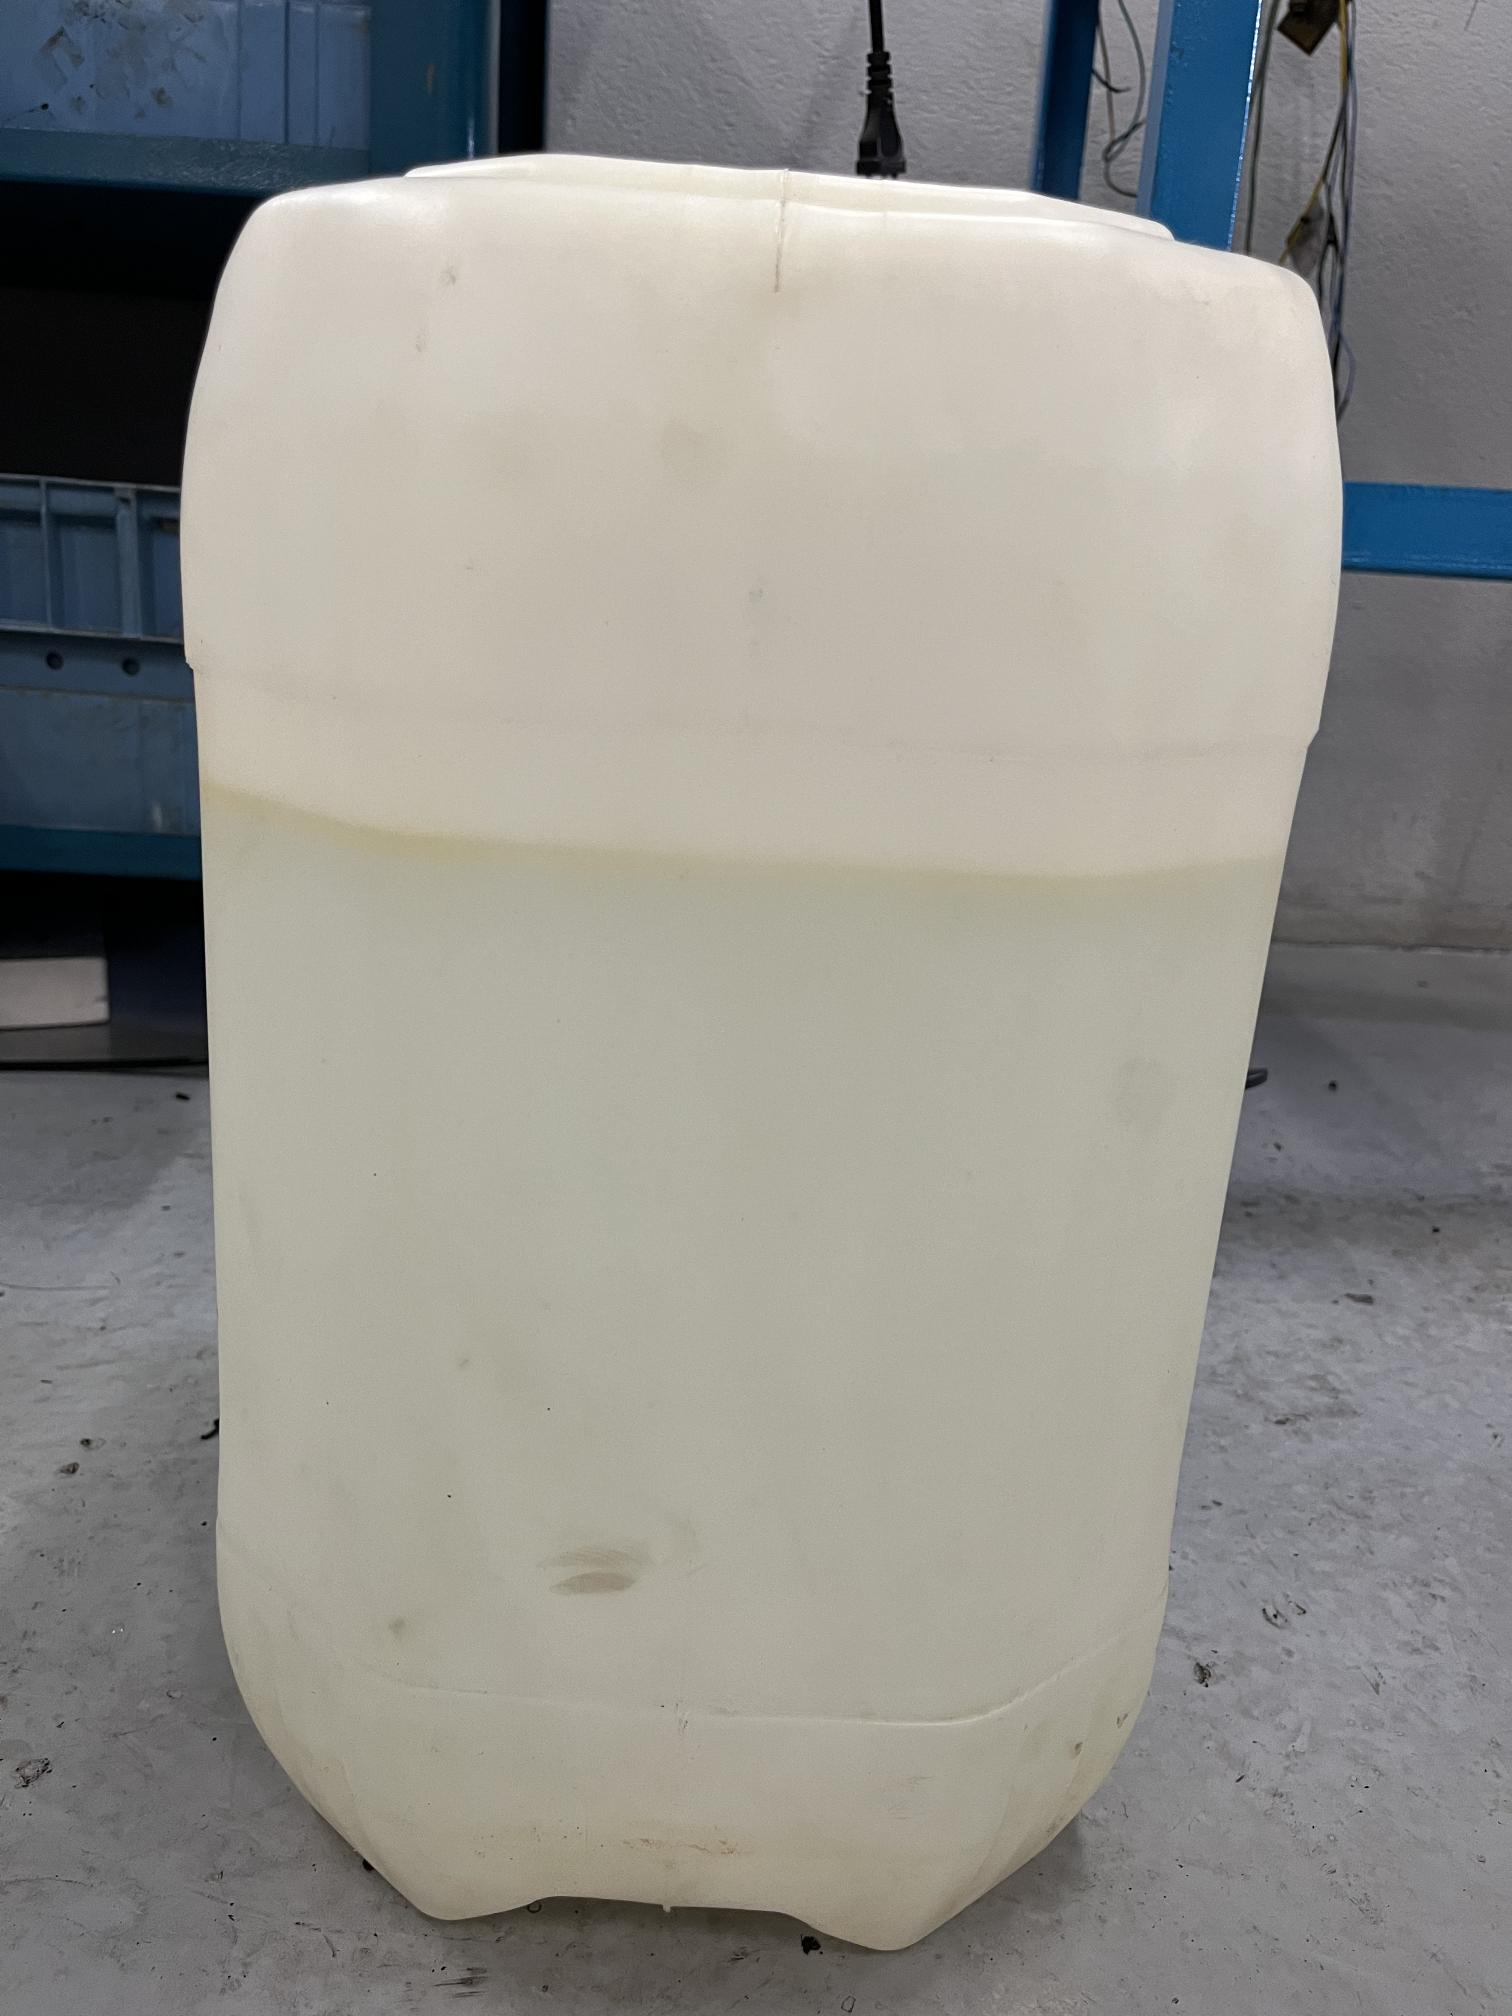Galao: (106, 86, 1418, 1976)
